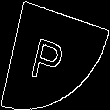P_N: (34, 25, 76, 85)
